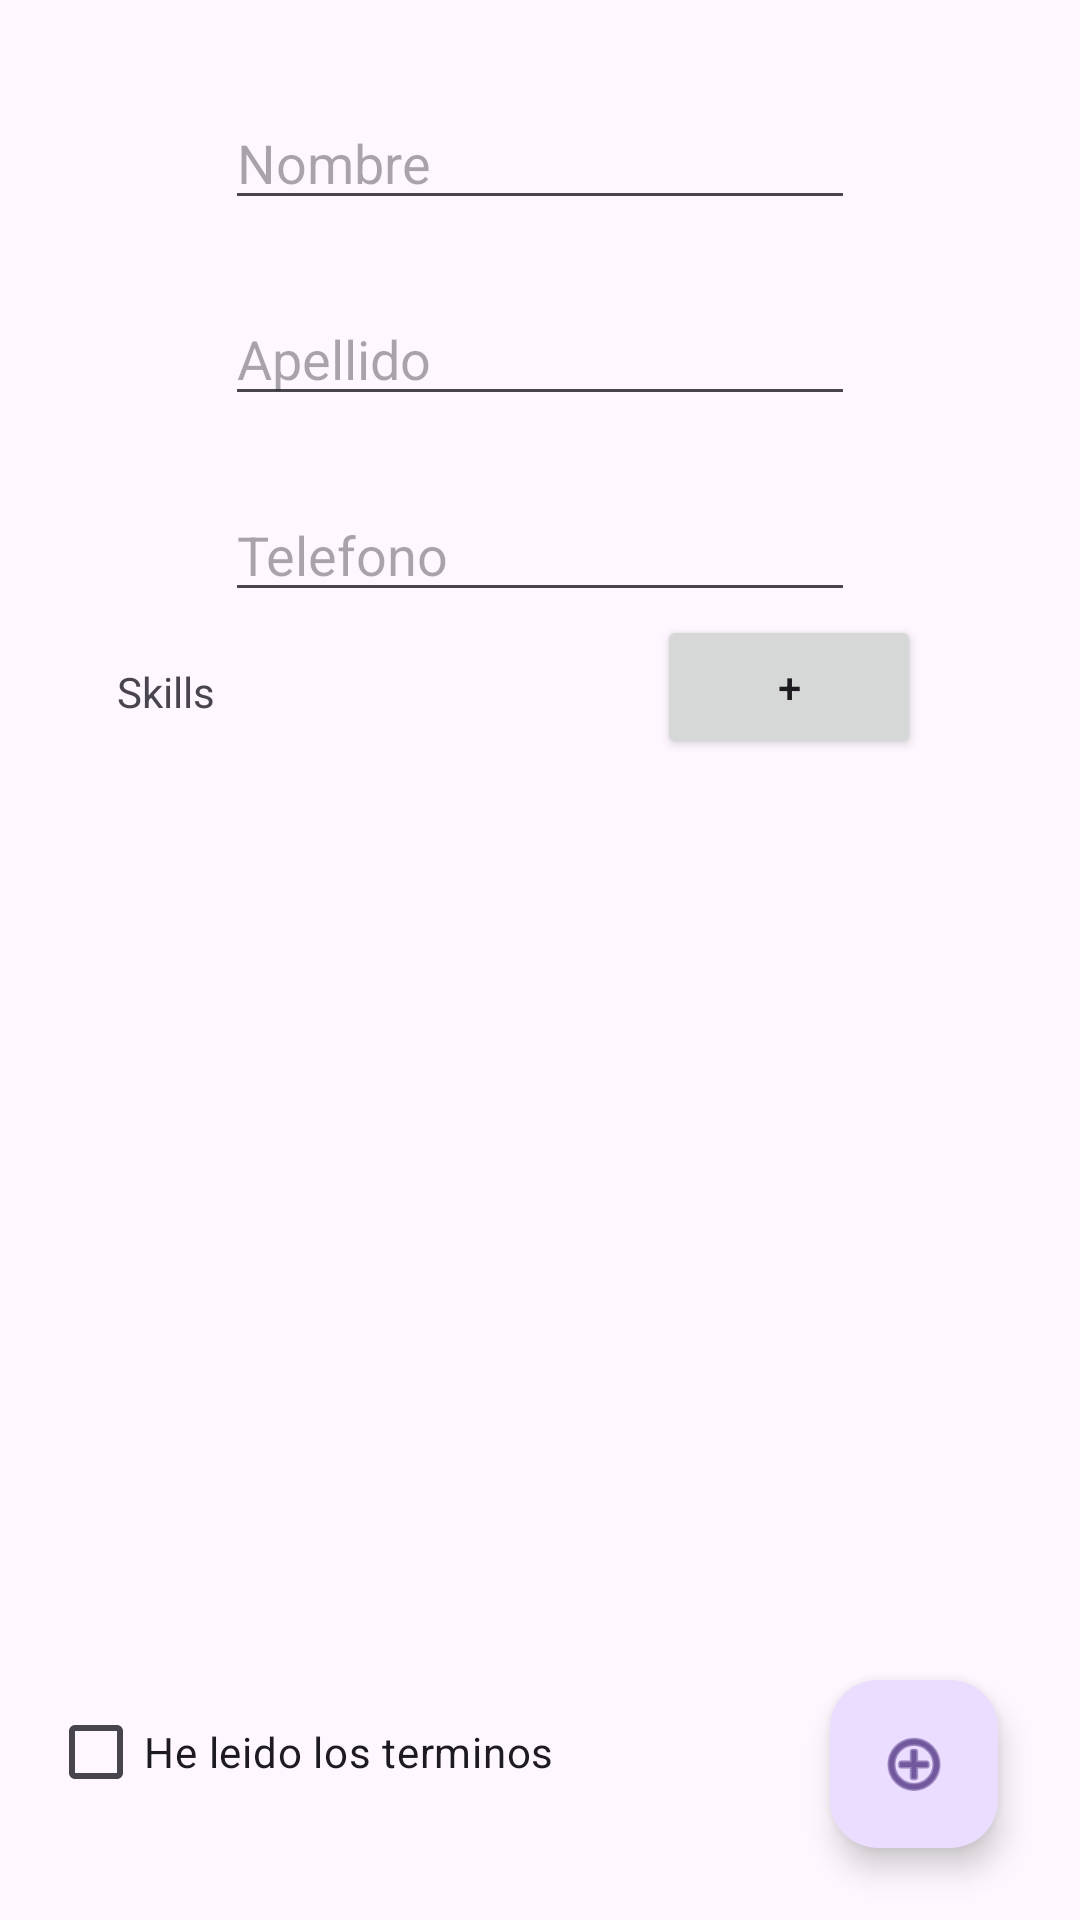

Named icons in this screenshot (1080×1920) and their bounding boxes, (x1, y1, x2, y2):
add: (830, 1680, 998, 1848)
